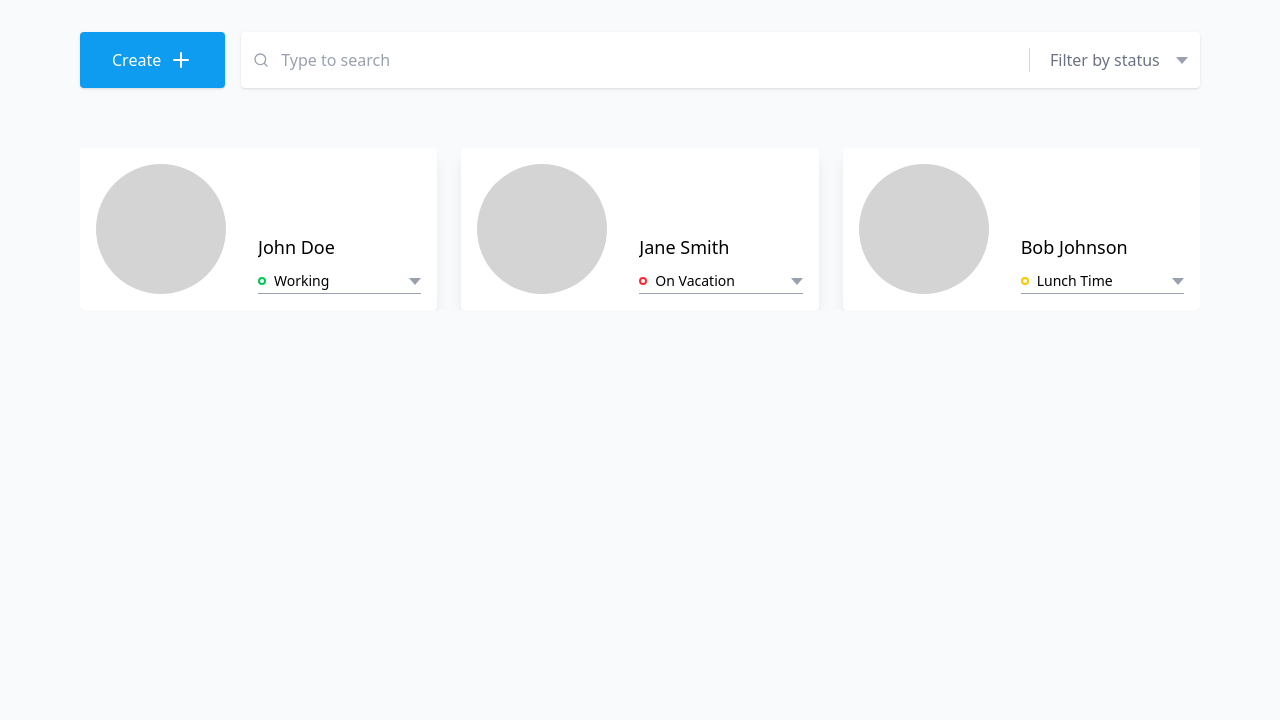
Employees Component › opens user modal when "Create" is clicked
Click the button "Create". click: click(153, 60)
box: top-left (80, 32), bottom-right (225, 88)
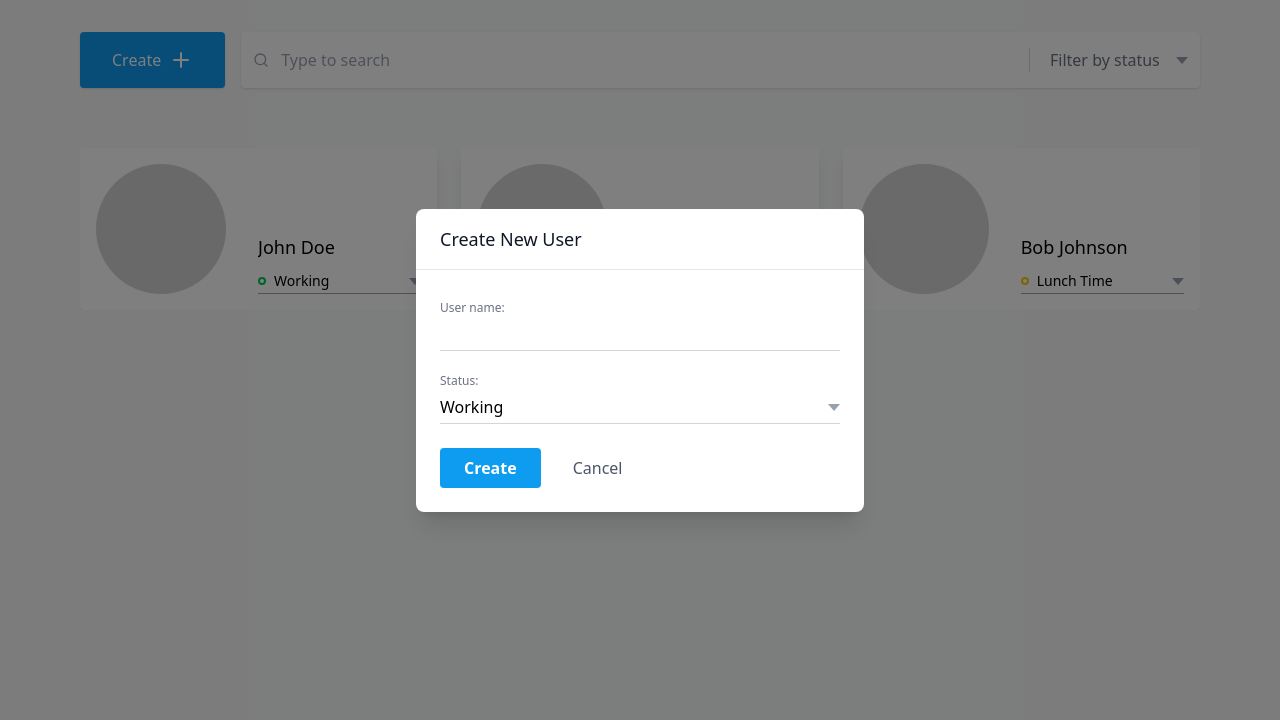
Now the dialog is shown
